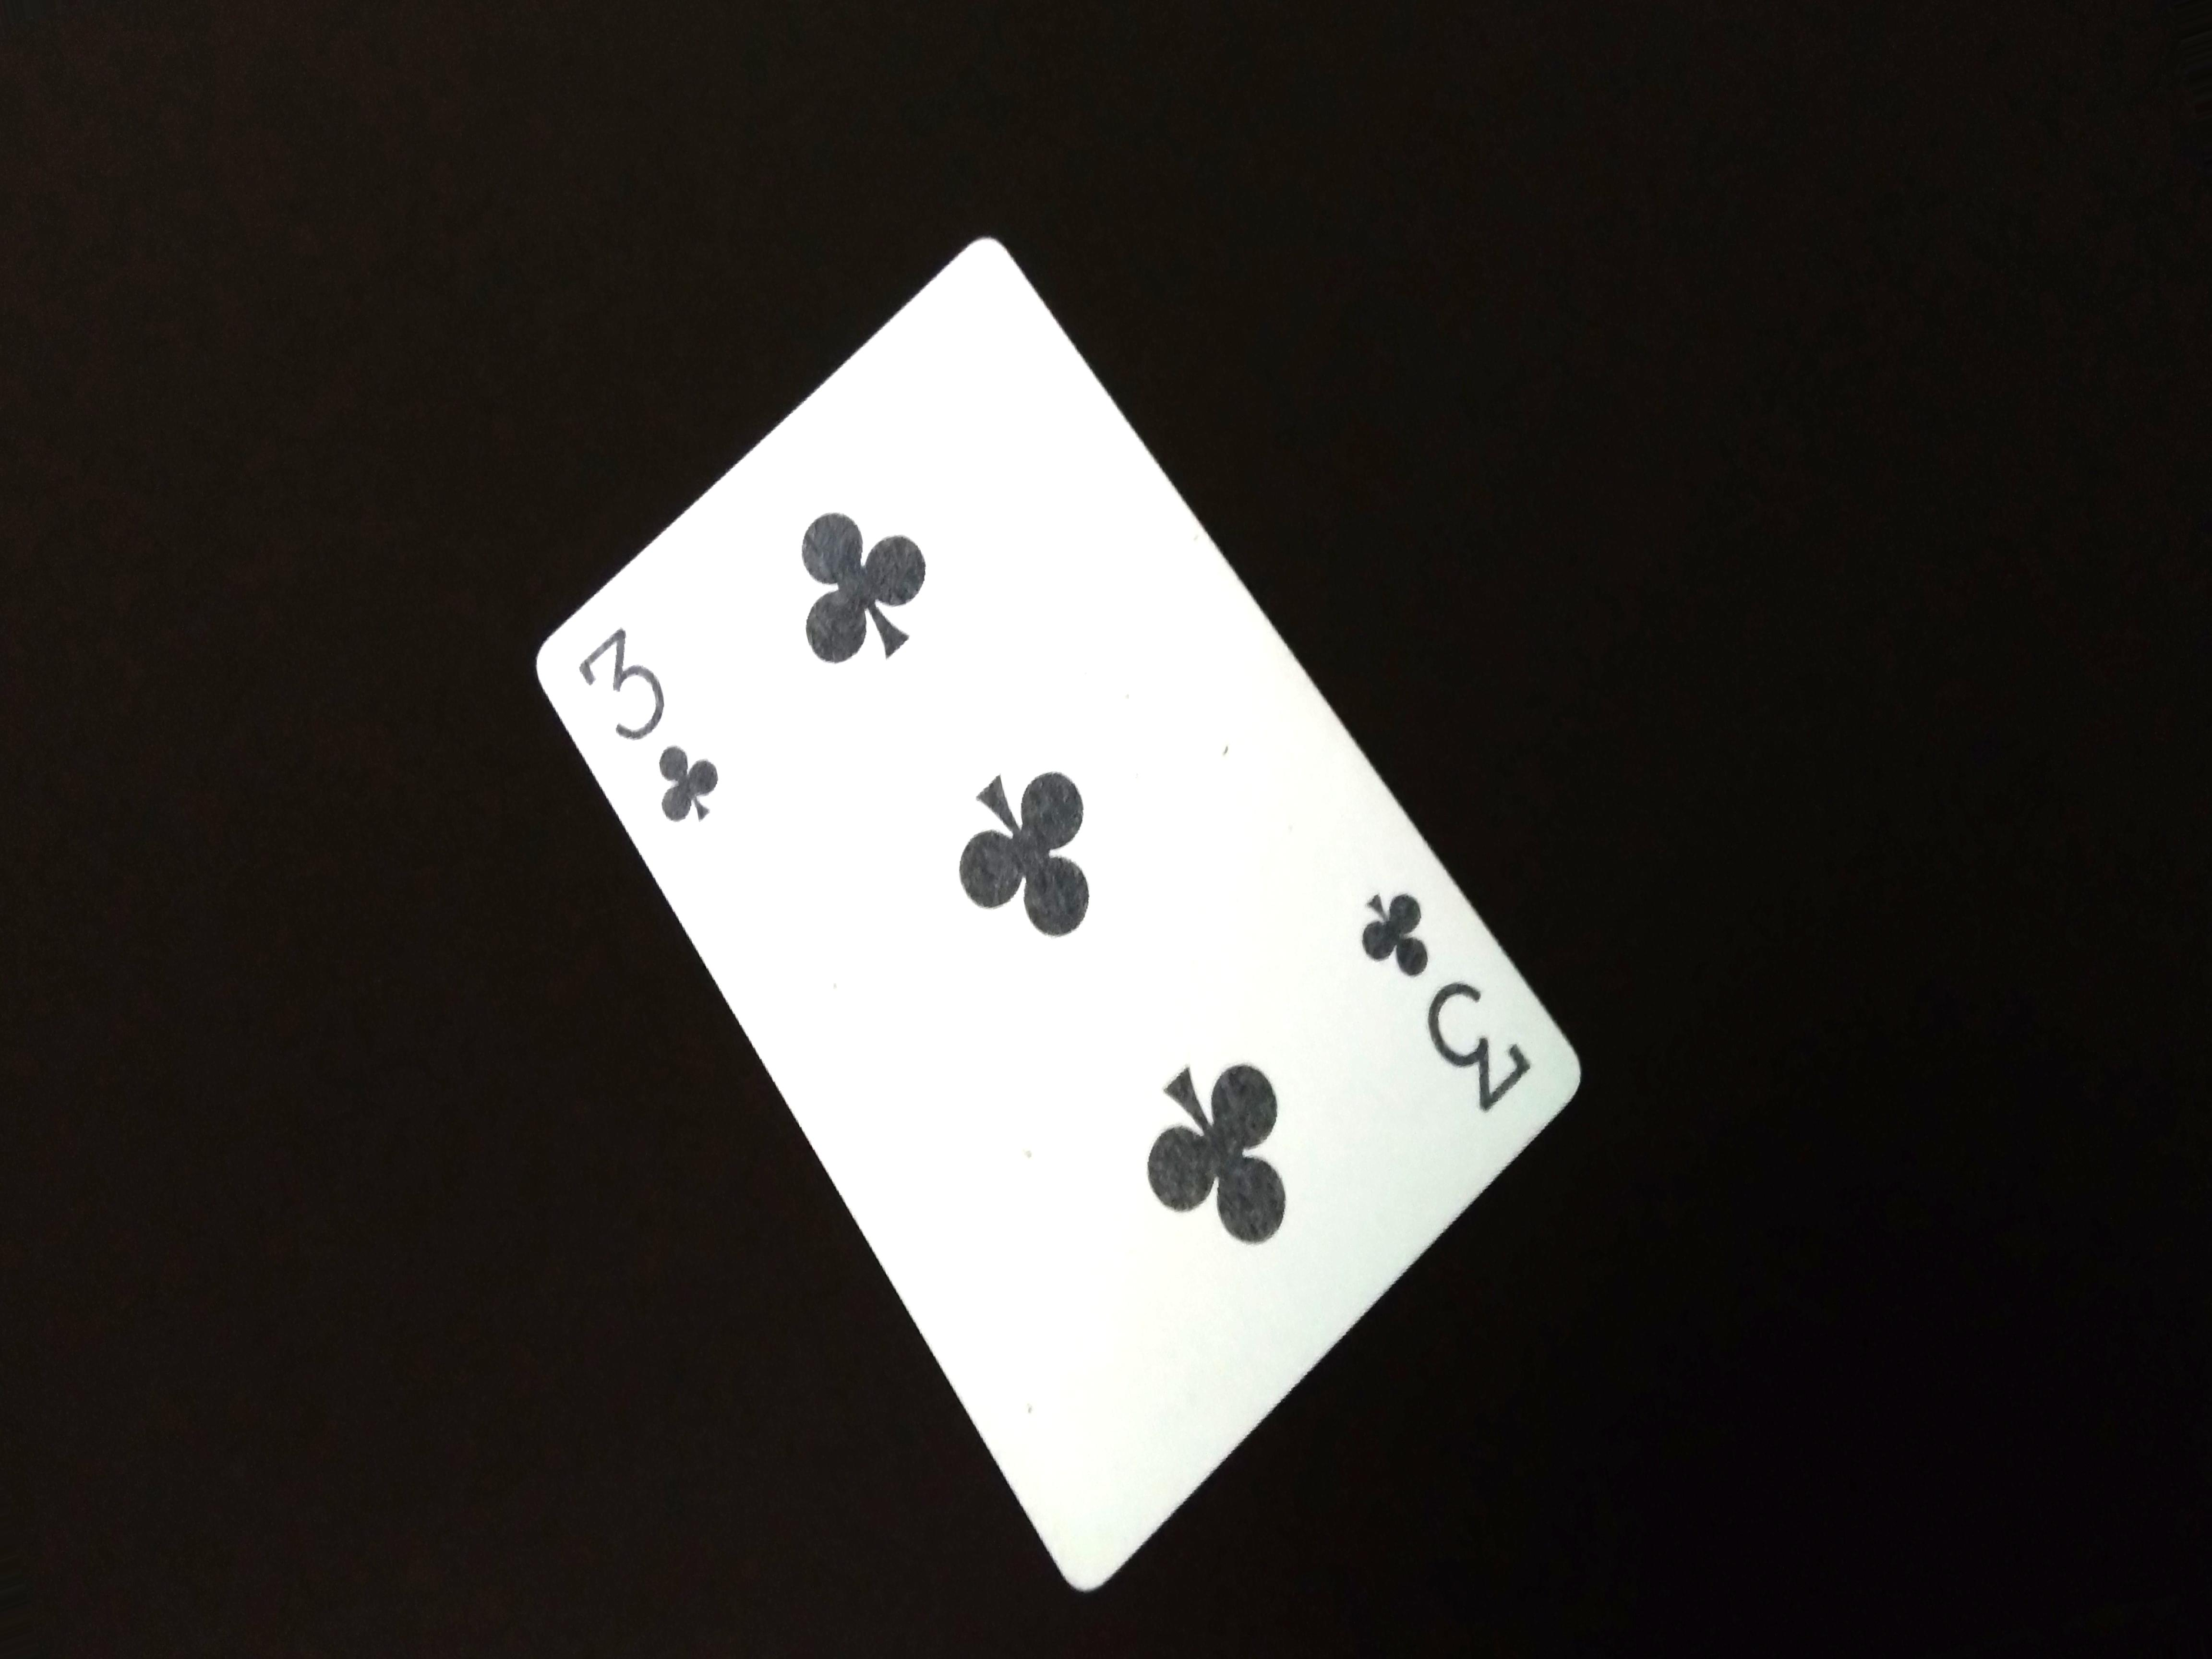3C: (575, 631, 786, 897)
